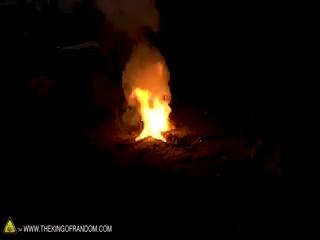Fire: (124, 60, 173, 142)
